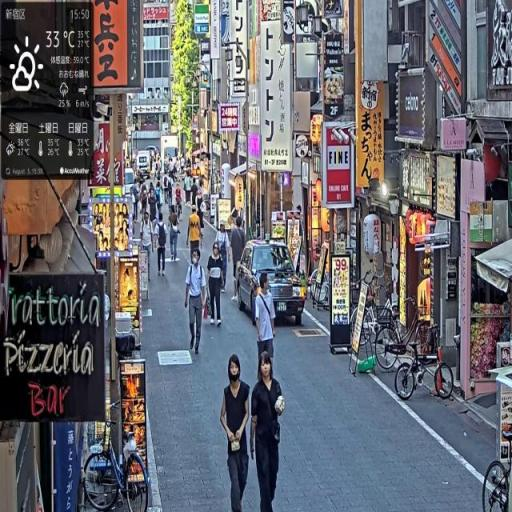person: (250, 350, 286, 512), (220, 352, 254, 512), (185, 245, 209, 356), (255, 273, 278, 380), (207, 241, 226, 327), (231, 216, 246, 304), (215, 221, 232, 293), (189, 208, 204, 269), (142, 211, 155, 277), (156, 211, 169, 277), (168, 206, 181, 264)
